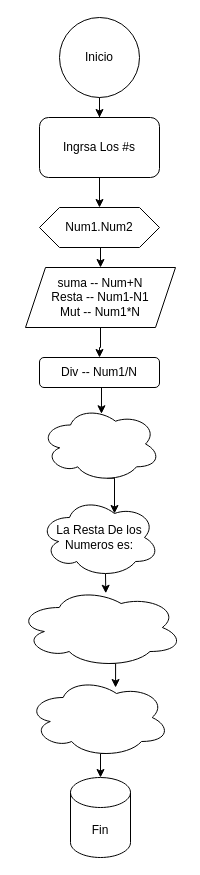
Some shapes in this 200 by 875 pixel diagram are drawn without their labels. Here are the shapes that lost their labels. From the top down, the centre of each, then its label:
pixel 100 443: La Suma De los Numeros es:
pixel 100 627: La multiplicacion De los Numeros es:
pixel 98 717: La Divicion De los Numeros es:
